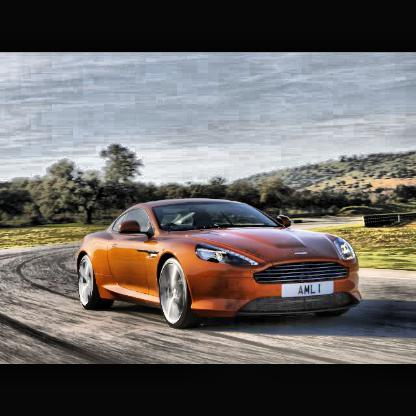Aston Martin Virage Coupe 2012: (77, 198, 363, 335)
